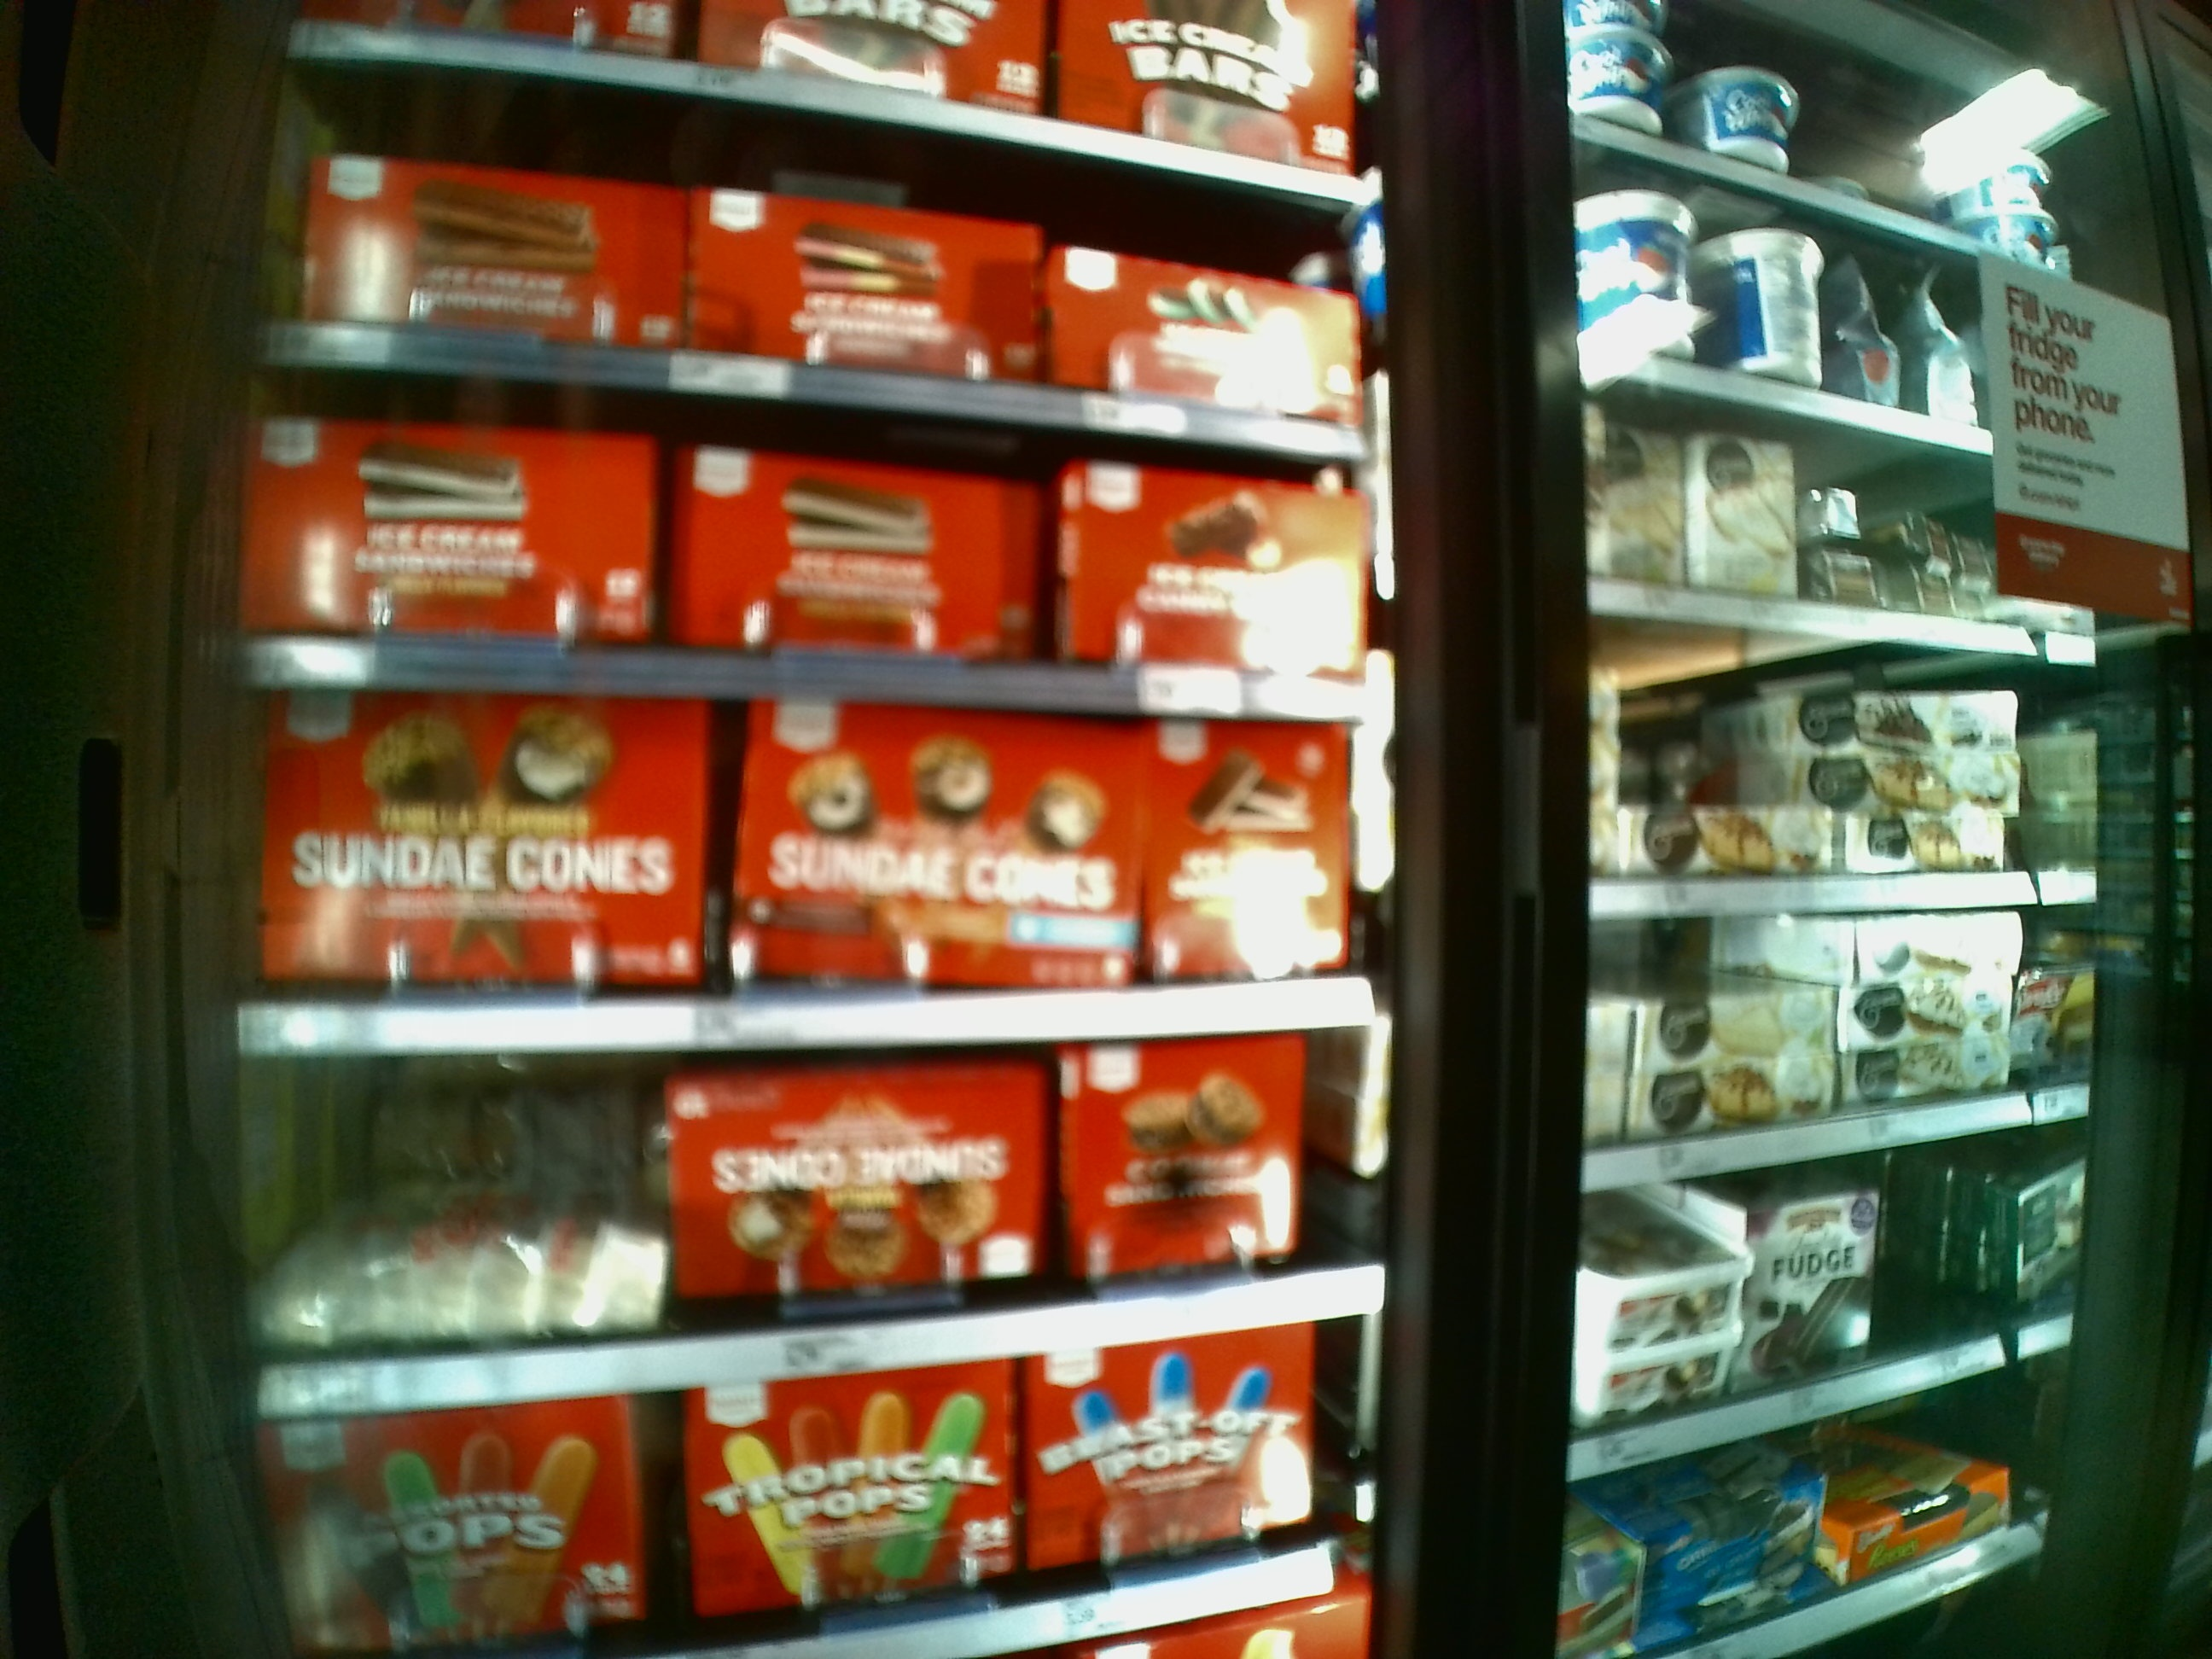shelf: (230, 706, 1369, 1047), (242, 1054, 1404, 1387), (247, 392, 1385, 720), (272, 134, 1364, 437)
